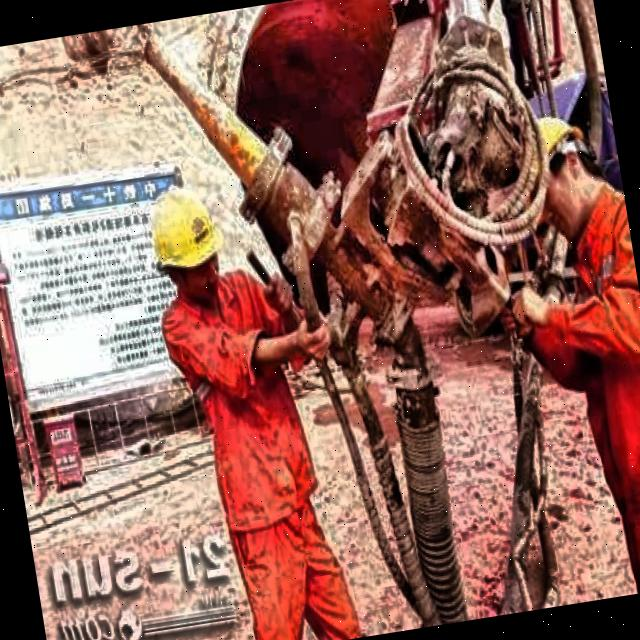helmet: (498, 110, 615, 252), (130, 171, 232, 316)
